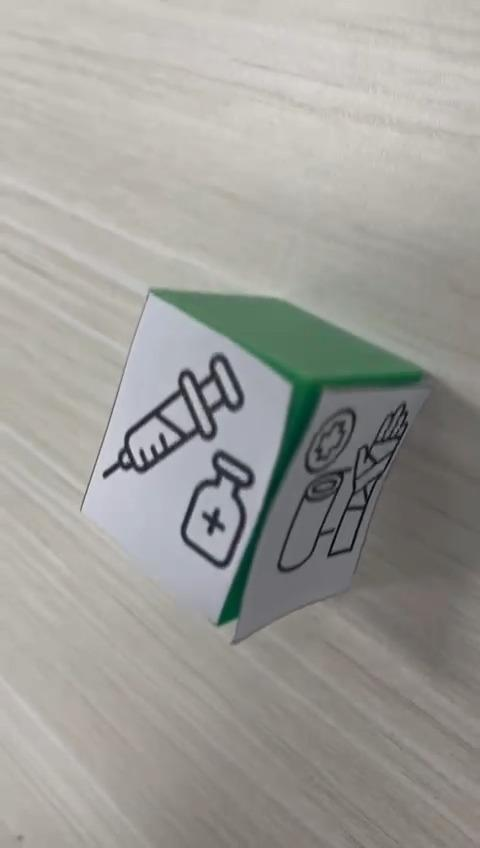antiseptic cream: (79, 289, 430, 624)
